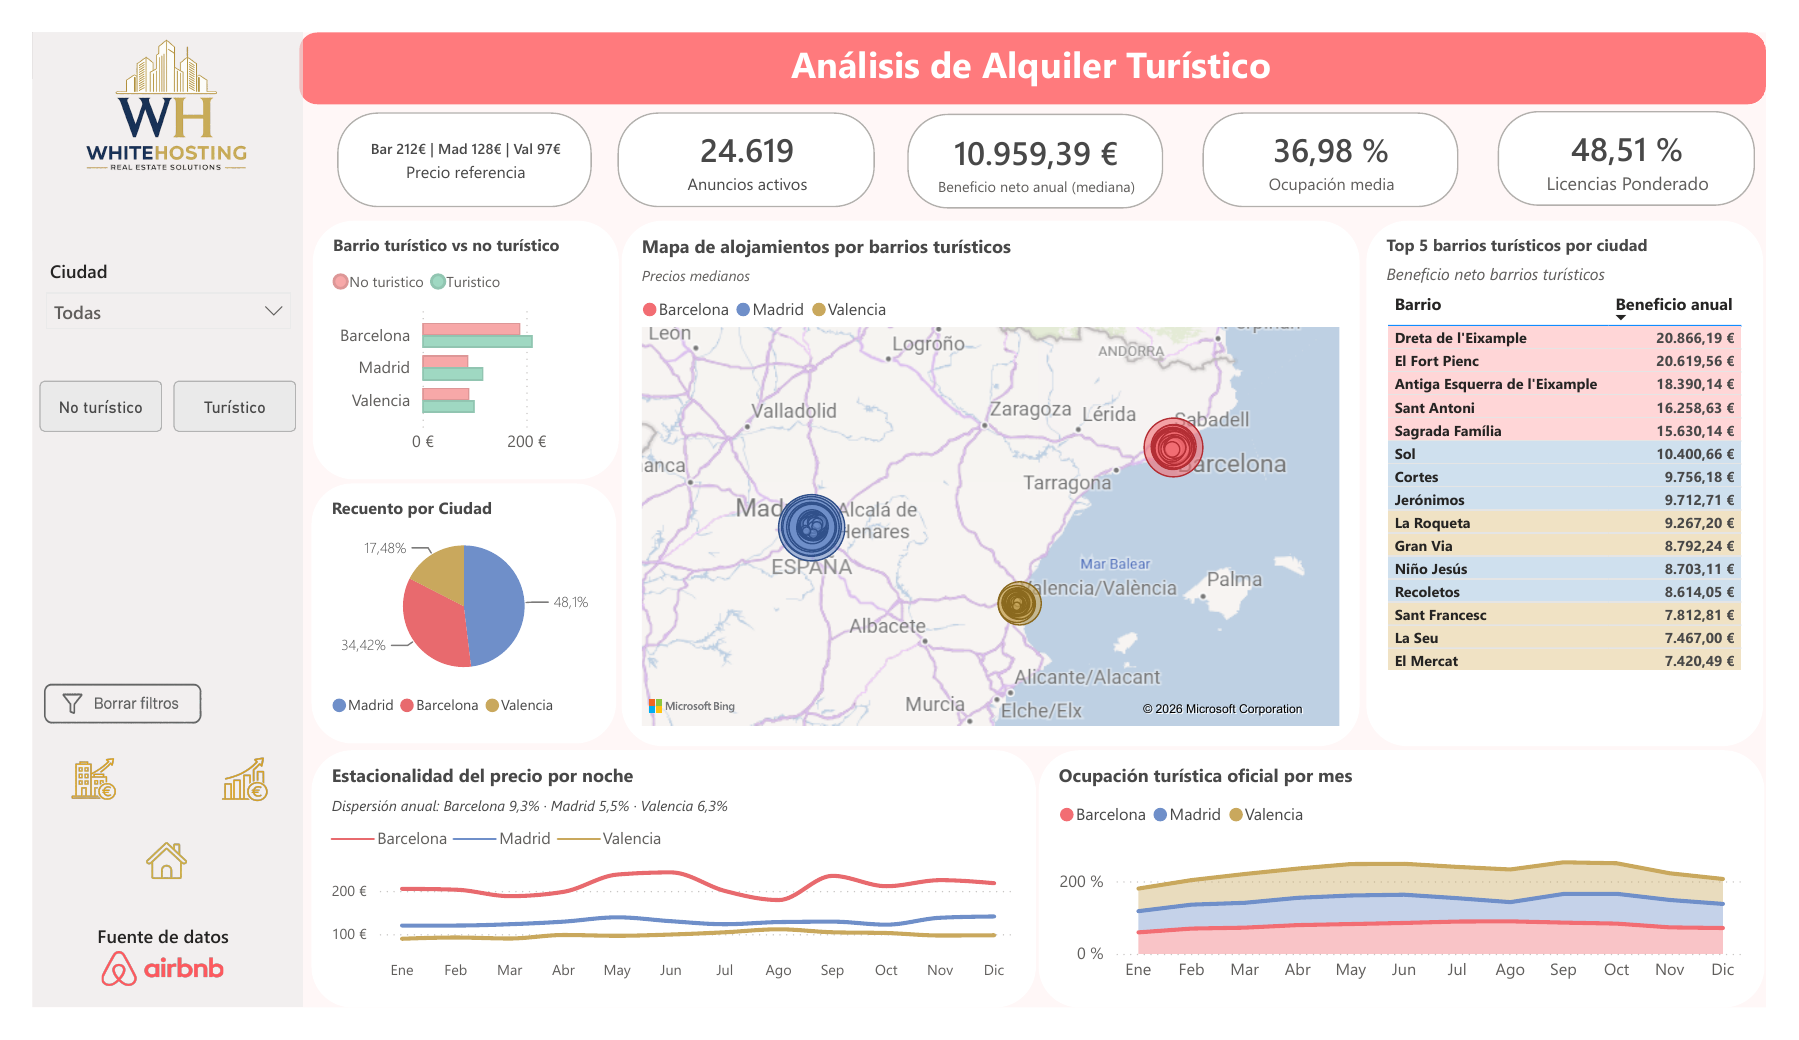

This screenshot's page, from the dashboard's own definition file:
{"tool":"powerbi","page":{"name":"Alquiler","canvas":[1280,720],"ordinal":2},"visuals":[{"type":"shape","box":[197.4,0,1082.6,53.1],"z":0},{"type":"shape","box":[0,0,200.4,720],"z":1000},{"type":"cardVisual","fields":{"Data":["Median(listing_precio_habitaciones_pbi.beneficio_neto_anual_eur)"]},"box":[641,54.8,199.3,79.9],"z":2000},{"type":"cardVisual","fields":{"Data":["Avg(listing_precio_habitaciones_pbi.ocupacion_tasa)"]},"box":[859.2,53.9,199.3,79.9],"z":3000},{"type":"image","box":[51.4,678.6,90,25],"z":4000},{"type":"slicer","fields":{"Values":["Ciudades.ciudad"]},"box":[0,162.6,200.8,77.2],"z":5000},{"type":"textbox","box":[42.9,653.8,114.3,28.6],"z":6000},{"type":"image","box":[0,521.4,87.2,61.8],"z":7000},{"type":"image","box":[111.7,521.4,89,64.5],"z":8000},{"type":"image","box":[50.9,566,96.3,95.4],"z":9000},{"type":"map","title":"Mapa de alojamientos por barrios turísticos","fields":{"Size":["CountNonNull(listing_precio_habitaciones_pbi.id_inmueble)"],"Y":["tabla_barrios_con_coordenadas.Latitud"],"X":["tabla_barrios_con_coordenadas.Longitud"],"Series":["Ciudades.Ciudad"]},"box":[435.1,139,544.7,388.5],"z":10000},{"type":"cardVisual","fields":{"Data":["listing_precio_habitaciones_pbi.Anuncios activos"]},"box":[427.3,53.9,199.3,79.9],"z":11000},{"type":"advancedSlicerVisual","fields":{"Values":["tabla_barrios_oficial_turísticos_id_mejorado.Barrio Turístico (texto)"]},"box":[0,251.6,199.9,48.1],"z":12000},{"type":"lineChart","title":"Estacionalidad del precio por noche","fields":{"Y":["Avg(estacionalidad_pbi.precio_mediano)"],"Category":["estacionalidad_pbi.MesCorto"],"Series":["Ciudades.Ciudad"]},"box":[205.9,530.5,535.5,189.3],"z":13000},{"type":"textbox","box":[197.4,0,1080.1,52.7],"z":14000},{"type":"clusteredBarChart","title":"Barrio turístico vs no turístico","fields":{"Series":["precio_por_barrio_turistico_pbi.Barrio Turístico (texto)"],"Y":["Avg(precio_por_barrio_turistico_pbi.precio_mediano)"],"Category":["precio_por_barrio_turistico_pbi.Ciudad"]},"box":[207.1,138.7,225.5,191.3],"z":15000},{"type":"image","box":[15.4,3.6,167.2,99.9],"z":16000},{"type":"image","box":[8.1,469.5,117.2,51.8],"z":17000},{"type":"stackedAreaChart","title":"Ocupación turística oficial por mes","fields":{"Y":["Avg(ocupacion_turistica_mensual.Ocupacion)"],"Category":["ocupacion_turistica_mensual.MesCorto"],"Series":["Ciudades.Ciudad"]},"box":[743,530.5,535.5,189.3],"z":18000},{"type":"pieChart","title":"Recuento por Ciudad","fields":{"Y":["listing_precio_habitaciones_pbi.Anuncios activos"],"Category":["Ciudades.Ciudad"]},"box":[206,333.1,225.2,191.7],"z":19000},{"type":"tableEx","title":"Top 5 barrios turísticos por ciudad","fields":{"Values":["beneficio_por_id_barrio_pbi.barrio_oficial","Sum(beneficio_por_id_barrio_pbi.beneficio_neto_mediano)"]},"box":[984.8,139,293.1,388.5],"z":20000},{"type":"cardVisual","title":"Licencias","fields":{"Data":["licencias_por_barrio_pbi.% Licencias Ponderado"]},"box":[1076.9,53.1,199.9,79.9],"z":21000},{"type":"cardVisual","fields":{"Data":["Precio_Referencia.Precio referencia"]},"box":[219.8,54.5,198.4,79.8],"z":22000}]}

Visuals, with their boxes in screenshot pixels (x1, y1, x2, y2), scaled from the page's 1280x720 canvas onto the 1799x1040 screenshot:
shape: <region>277, 0, 1798, 77</region>
shape: <region>0, 0, 282, 1039</region>
cardVisual - Median(listing_precio_habitaciones_pbi.beneficio_neto_anual_eur): <region>901, 79, 1181, 195</region>
cardVisual - Avg(listing_precio_habitaciones_pbi.ocupacion_tasa): <region>1208, 78, 1488, 193</region>
image: <region>72, 980, 199, 1016</region>
slicer - Ciudades.ciudad: <region>0, 235, 282, 346</region>
textbox: <region>60, 944, 221, 986</region>
image: <region>0, 753, 123, 842</region>
image: <region>157, 753, 282, 846</region>
image: <region>72, 818, 207, 955</region>
"Mapa de alojamientos por barrios turísticos" map: <region>612, 201, 1377, 762</region>
cardVisual - listing_precio_habitaciones_pbi.Anuncios activos: <region>601, 78, 881, 193</region>
advancedSlicerVisual - tabla_barrios_oficial_turísticos_id_mejorado.Barrio Turístico (texto): <region>0, 363, 281, 433</region>
"Estacionalidad del precio por noche" lineChart: <region>289, 766, 1042, 1039</region>
textbox: <region>277, 0, 1795, 76</region>
"Barrio turístico vs no turístico" clusteredBarChart: <region>291, 200, 608, 477</region>
image: <region>22, 5, 257, 150</region>
image: <region>11, 678, 176, 753</region>
"Ocupación turística oficial por mes" stackedAreaChart: <region>1044, 766, 1797, 1039</region>
"Recuento por Ciudad" pieChart: <region>290, 481, 606, 758</region>
"Top 5 barrios turísticos por ciudad" tableEx: <region>1384, 201, 1796, 762</region>
"Licencias" cardVisual: <region>1514, 77, 1795, 192</region>
cardVisual - Precio_Referencia.Precio referencia: <region>309, 79, 588, 194</region>
